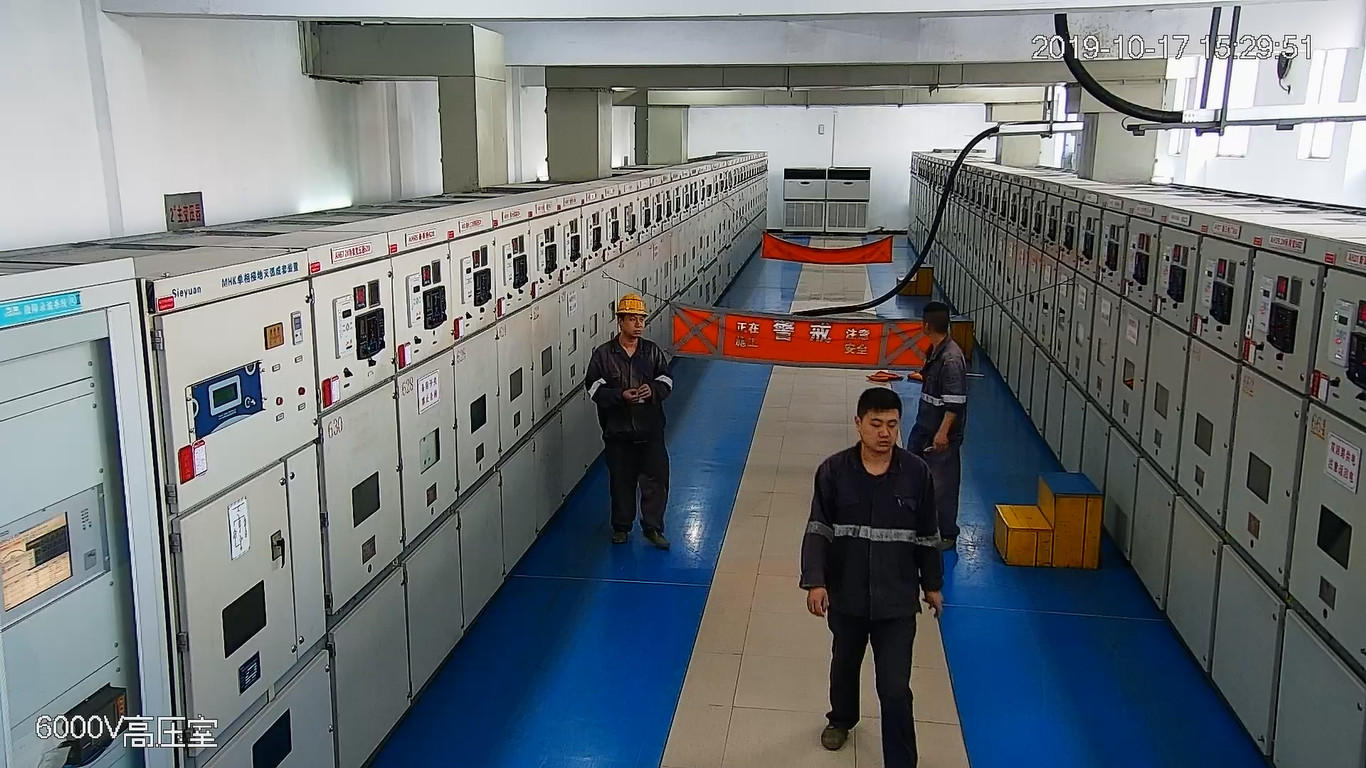helmet: (616, 292, 649, 316)
